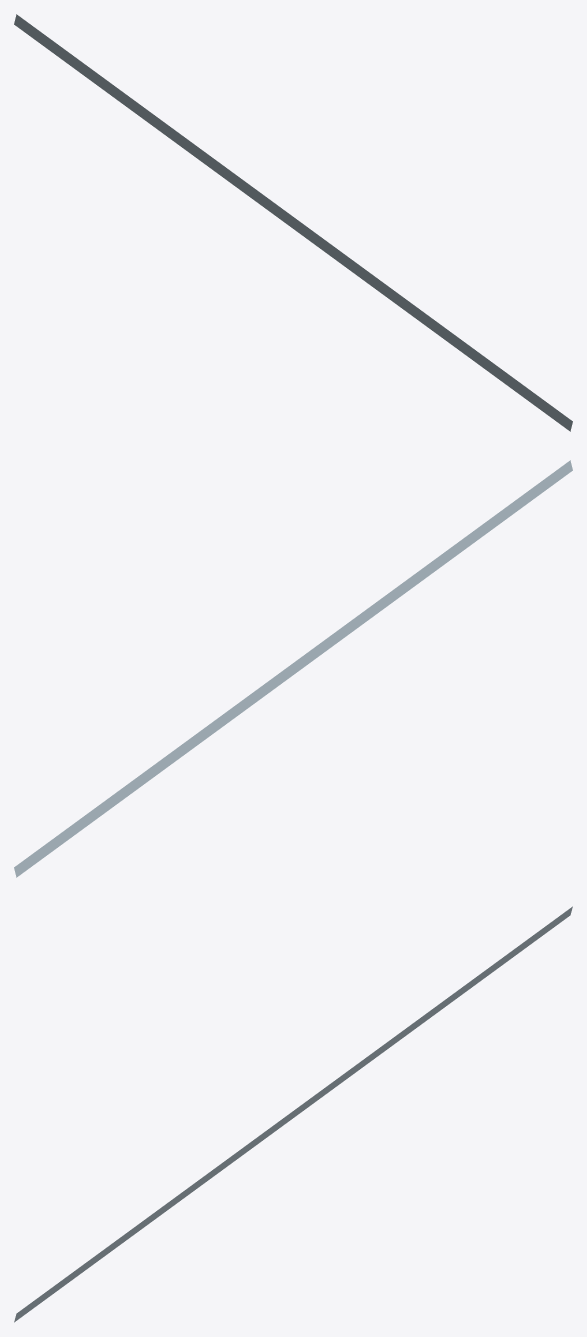
File: kd_stage_135c43_4_70_bounded_piece_1.glb
3 views of the same model, one above another, from view 1: azimuth 30°, elevation 25°; view 2: azimuth 150°, elevation 25°; view 3: azimuth 330°, elevation 25° (orthographic).
Visible parts, largest first — view 1: kd_stage_135c43_4_70_bounded_piece_1; view 2: kd_stage_135c43_4_70_bounded_piece_1; view 3: kd_stage_135c43_4_70_bounded_piece_1.
Boxes of the visible parts, x1=… form: kd_stage_135c43_4_70_bounded_piece_1: x1=14, y1=14, x2=572, y2=431; kd_stage_135c43_4_70_bounded_piece_1: x1=14, y1=460, x2=572, y2=877; kd_stage_135c43_4_70_bounded_piece_1: x1=14, y1=906, x2=572, y2=1322.
Size of the model in its own units: 0.00776 by 0.029 by 3.
1 material, 1 textured.
